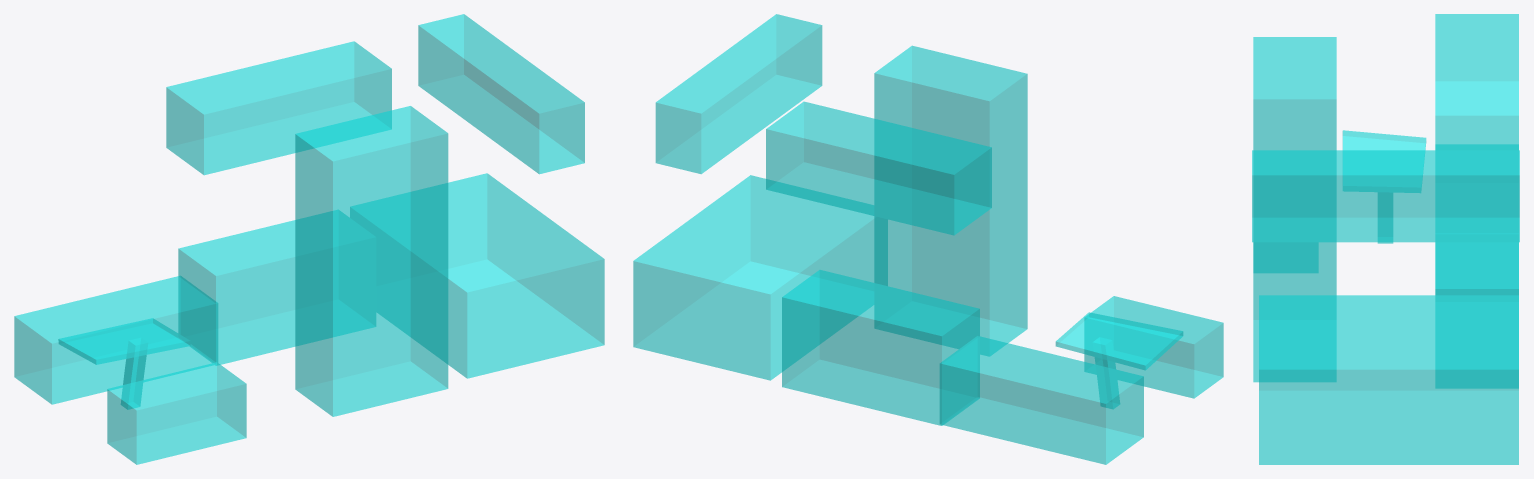
The model's file is SM_Bld_Shack_06_Interior_01_Collision.fbx.
The picture shows the model from 3 angles, left to right: view 1: azimuth 30°, elevation 25°; view 2: azimuth 150°, elevation 25°; view 3: azimuth 270°, elevation 25°; orthographic projection. The views are drawn at different scales.
Visible parts, largest first — view 1: SM_Bld_Shack_06_Interior_01_Collision; view 2: SM_Bld_Shack_06_Interior_01_Collision; view 3: SM_Bld_Shack_06_Interior_01_Collision.
Part boxes in pixels (box(x1,y1,x2,y2)): SM_Bld_Shack_06_Interior_01_Collision: box(14, 14, 604, 464); SM_Bld_Shack_06_Interior_01_Collision: box(633, 14, 1223, 464); SM_Bld_Shack_06_Interior_01_Collision: box(1252, 14, 1519, 464).
Size of the model in its own units: 520 by 269 by 230.
